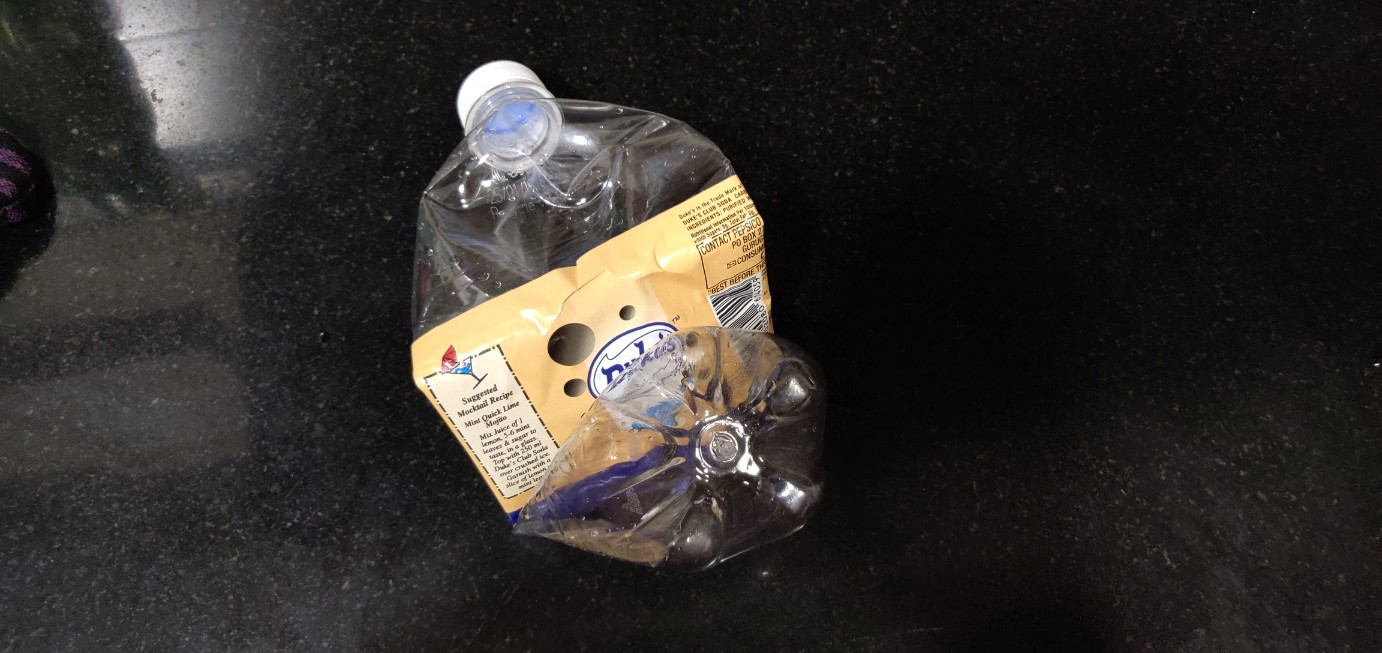Electronics: (365, 48, 851, 592)
